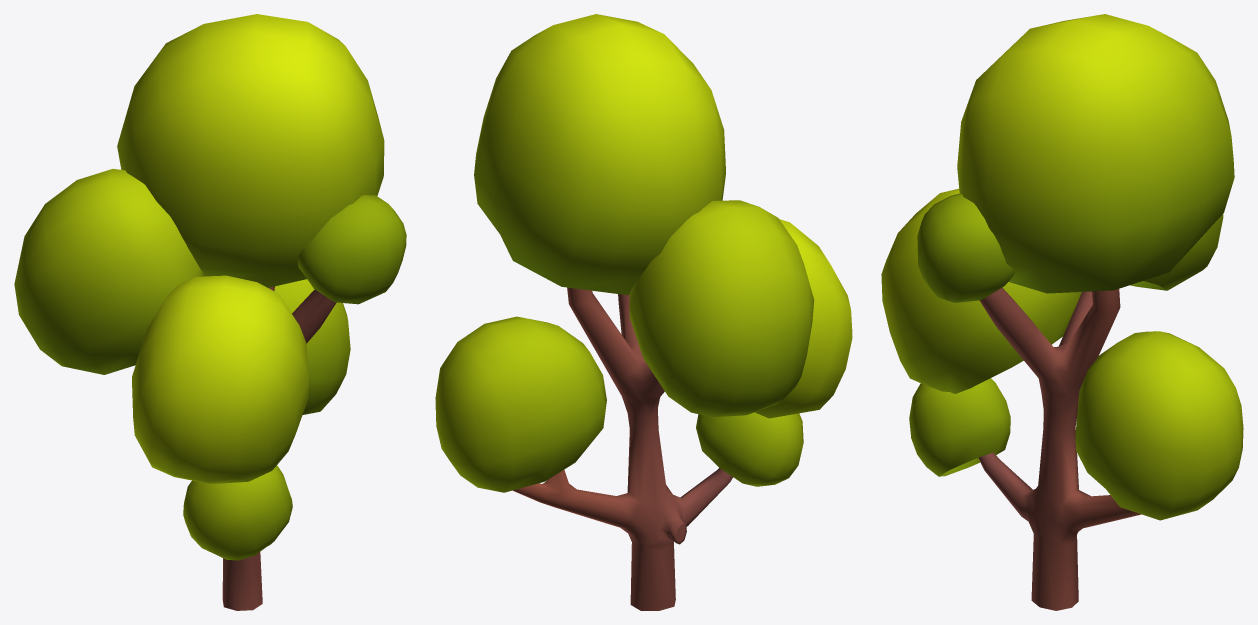
Rendered from Tree_01.fbx.
The picture shows the model from 3 angles, left to right: view 1: azimuth 30°, elevation 25°; view 2: azimuth 150°, elevation 25°; view 3: azimuth 270°, elevation 25°; orthographic projection. The views are drawn at different scales.
Parts seen in each view (by area): view 1: Tree_01; view 2: Tree_01; view 3: Tree_01.
Part boxes in pixels (x1,y1,x2,y2): Tree_01: (14, 14, 406, 610); Tree_01: (435, 14, 852, 610); Tree_01: (881, 14, 1243, 610).
Bounding box in the file's own units: 101 × 163 × 90.55.
